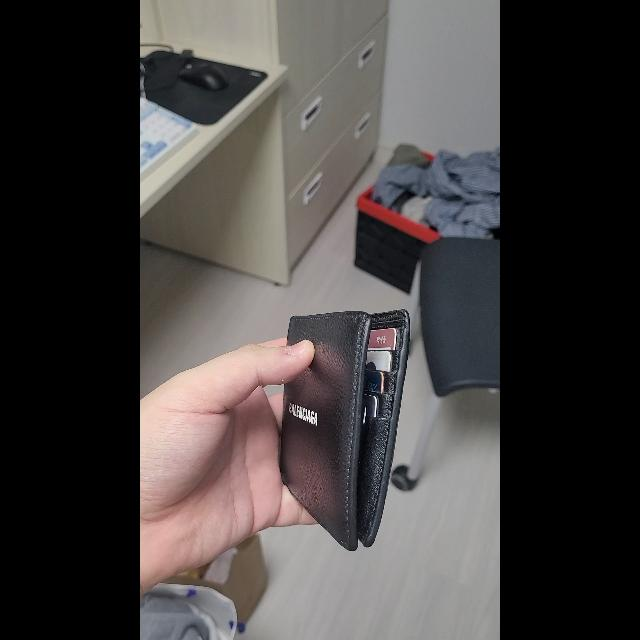WALLET: (278, 308, 410, 552)
